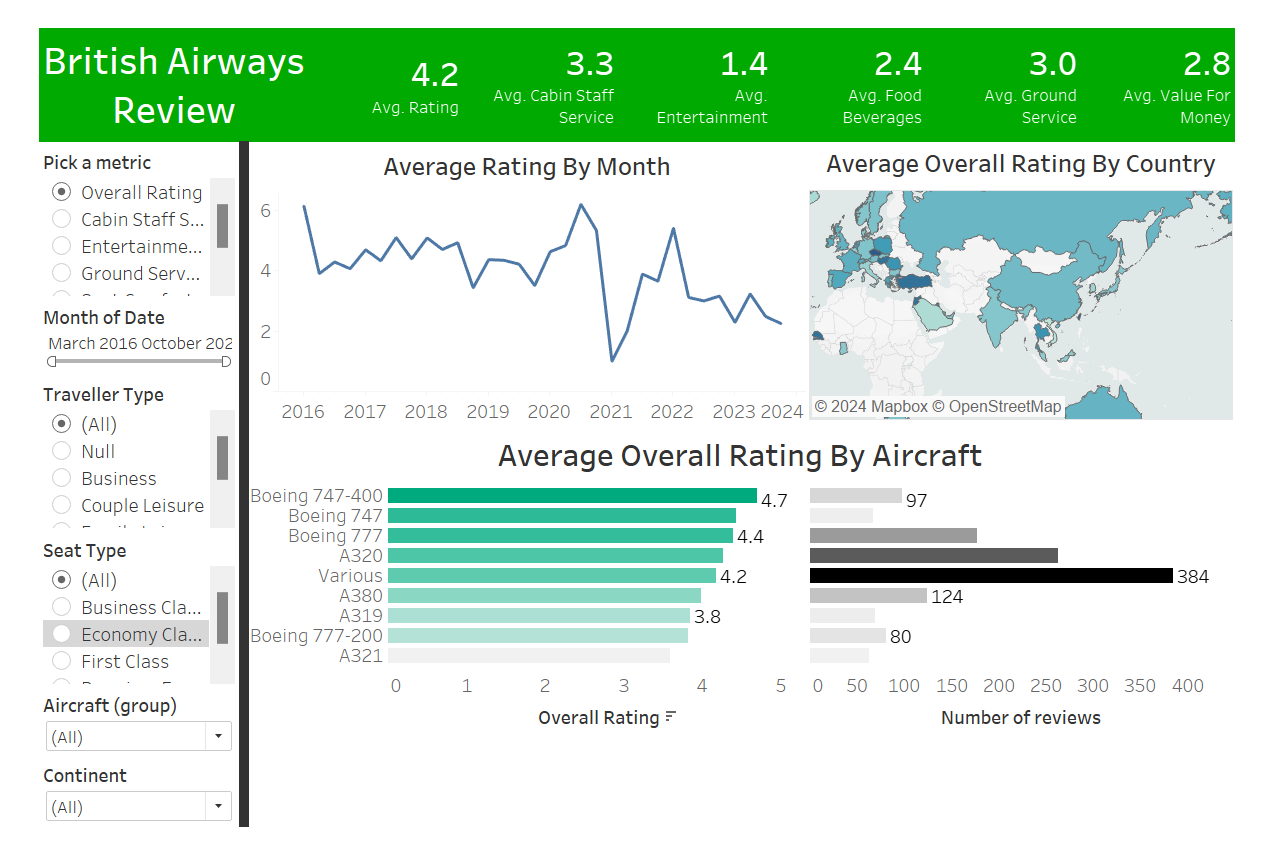

The dashboard page shown, as its layout file describes it:
{"tool":"tableau","page":{"name":"Dashboard 1","canvas":[1200,800],"ordinal":0},"visuals":[{"type":"text","box":[0,0,270,114.3]},{"type":"worksheet","title":"Summary","mark":"Automatic","box":[270,0,926,114]},{"type":"blank","box":[200,113,10,686]},{"type":"worksheet","title":"Avg overall rating by country","mark":"Automatic","box":[770,114,424,278]},{"type":"parameter","param":"[Parameters].[Parameter 1]","box":[0,116.6,200,155.5]},{"type":"worksheet","title":"Avg CSS by  Month","mark":"Automatic","rows":["Calculation_2097551579880894464"],"cols":["date"],"box":[209,117,558,278]},{"type":"filter","title":"Avg overall rating by country","param":"[federated.0ce8o67071078v13plr5a1tjpni5].[tmn:date:qk]","box":[0,272,200,77]},{"type":"filter","title":"Avg overall rating by country","param":"[federated.0ce8o67071078v13plr5a1tjpni5].[none:traveller_type:nk]","box":[0,349,200,155.5]},{"type":"worksheet","title":"Aircraft","mark":"Automatic","cols":["Calculation_2097551579880894464","ba_reviews.csv_AADDB048419F48EE9F5CC6C6AFE16EF5"],"box":[209,401,984,397]},{"type":"filter","title":"Avg overall rating by country","param":"[federated.0ce8o67071078v13plr5a1tjpni5].[none:seat_type:nk]","box":[0,504.5,200,155.5]},{"type":"filter","title":"Avg overall rating by country","param":"[federated.0ce8o67071078v13plr5a1tjpni5].[Aircraft (group)]","box":[0,660,200,70]},{"type":"filter","title":"Avg overall rating by country","param":"[federated.0ce8o67071078v13plr5a1tjpni5].[none:Continent:nk]","box":[0,730,200,70]}]}

Visuals, with their boxes in screenshot pixels (x1, y1, x2, y2), scaled from the page's 1200x800 canvas onto the 1267x859 screenshot:
text: bbox(0, 0, 285, 123)
"Summary" worksheet: bbox(285, 0, 1263, 122)
blank: bbox(211, 121, 222, 858)
"Avg overall rating by country" worksheet: bbox(813, 122, 1261, 421)
parameter: bbox(0, 125, 211, 292)
"Avg CSS by  Month" worksheet: bbox(221, 126, 810, 424)
"Avg overall rating by country" filter: bbox(0, 292, 211, 375)
"Avg overall rating by country" filter: bbox(0, 375, 211, 542)
"Aircraft" worksheet: bbox(221, 431, 1260, 857)
"Avg overall rating by country" filter: bbox(0, 542, 211, 709)
"Avg overall rating by country" filter: bbox(0, 709, 211, 784)
"Avg overall rating by country" filter: bbox(0, 784, 211, 858)
